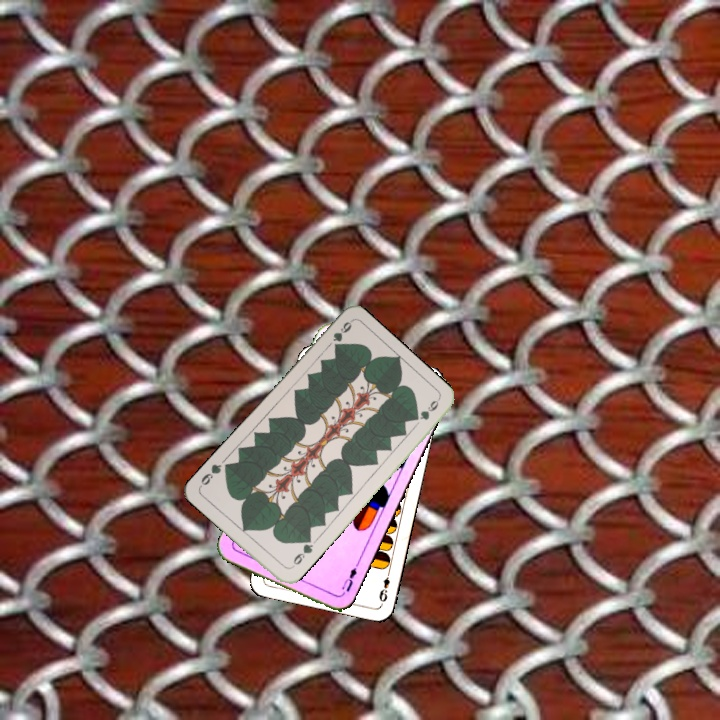E9: (375, 566, 393, 606)
EU: (336, 560, 361, 598)
G9: (286, 535, 316, 571), (329, 317, 354, 352)
